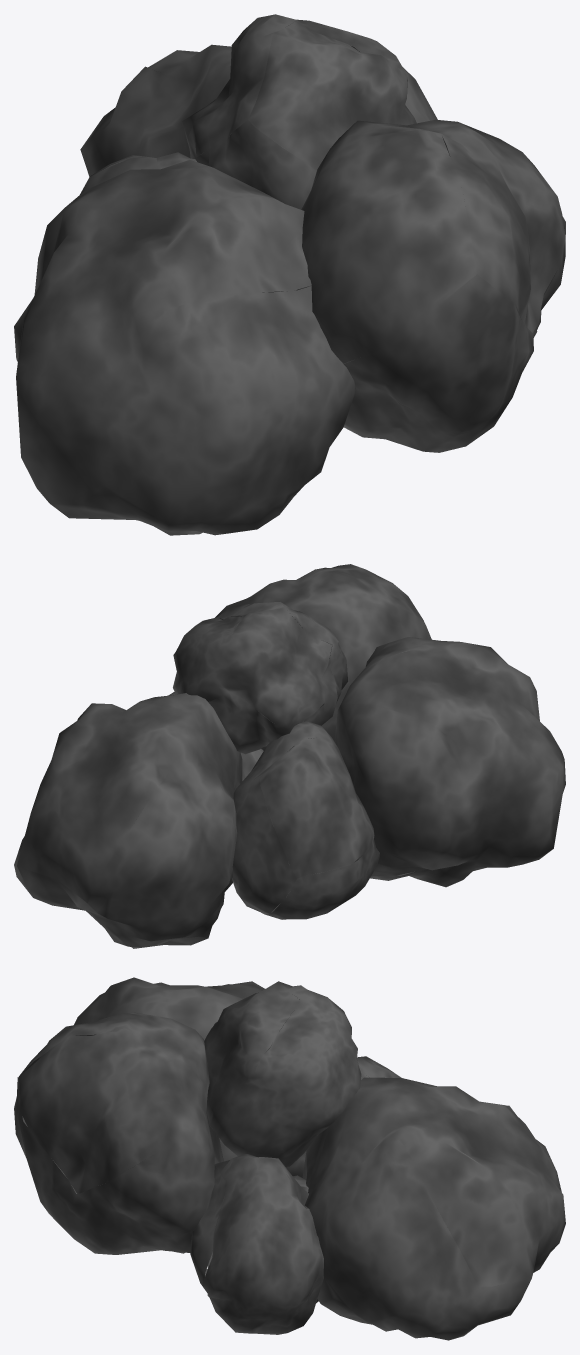
The model's file is outcrop.glb.
The picture shows the model from 3 angles, top to bottom: view 1: azimuth 30°, elevation 25°; view 2: azimuth 150°, elevation 25°; view 3: azimuth 270°, elevation 25°; orthographic projection. The views are drawn at different scales.
Parts seen in each view (by area): view 1: Object_33; view 2: Object_33; view 3: Object_33.
Boxes of the visible parts, x1=… form: Object_33: x1=14, y1=14, x2=565, y2=535; Object_33: x1=14, y1=564, x2=565, y2=948; Object_33: x1=14, y1=977, x2=565, y2=1340.
Size of the model in its own units: 5.22 by 3.74 by 5.87.
1 material, 1 textured.
